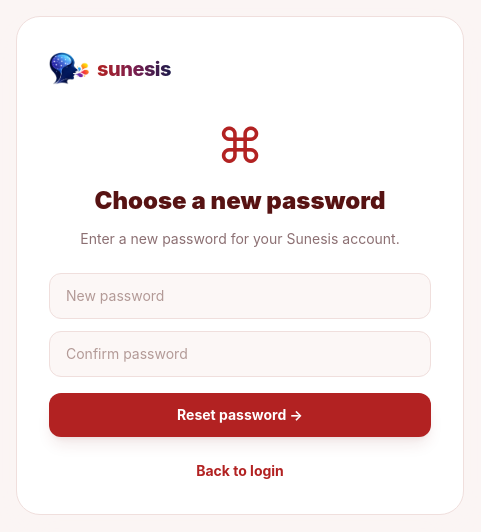
it: ResetPasswordPage › confirms a valid matching password
Type "Learning1" into the password field with placeholder "New password".
click(240, 296); type("Learning1")  # box [49,272,431,318]
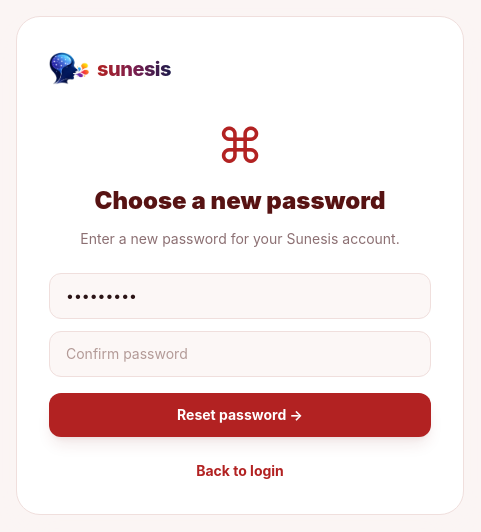
Type "Learning1" into the password field with placeholder "Confirm password".
click(240, 354); type("Learning1")  # box [49,330,431,376]
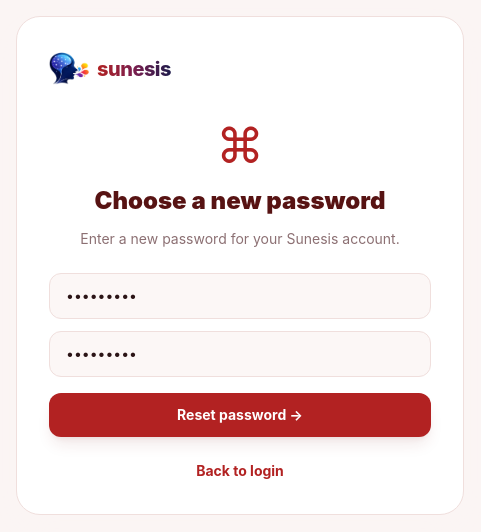
Click the button "Reset password →".
click(240, 414)  # box [49,392,431,436]
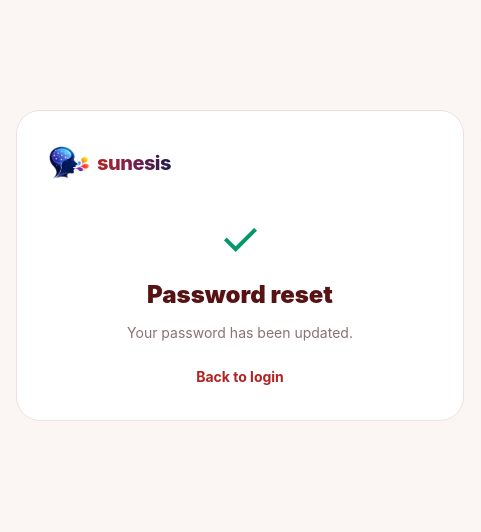
Now the heading "Password reset" is shown, box [147,280,333,308]
